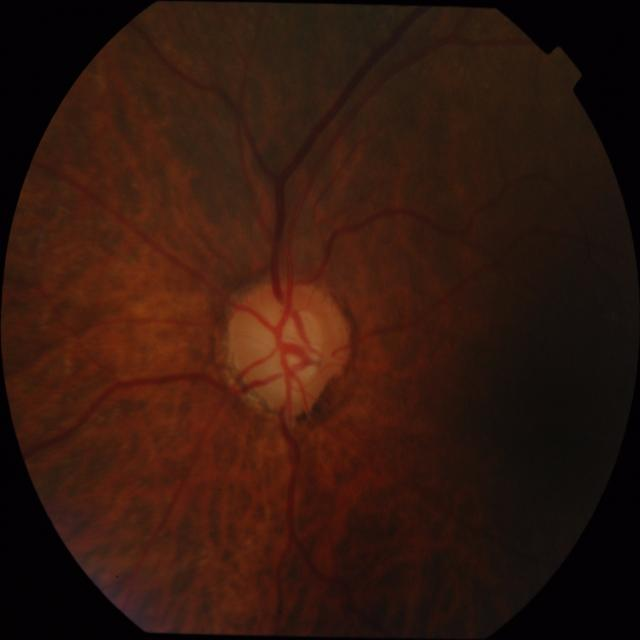OC: (258, 309, 324, 397)
OD: (228, 276, 350, 414)
